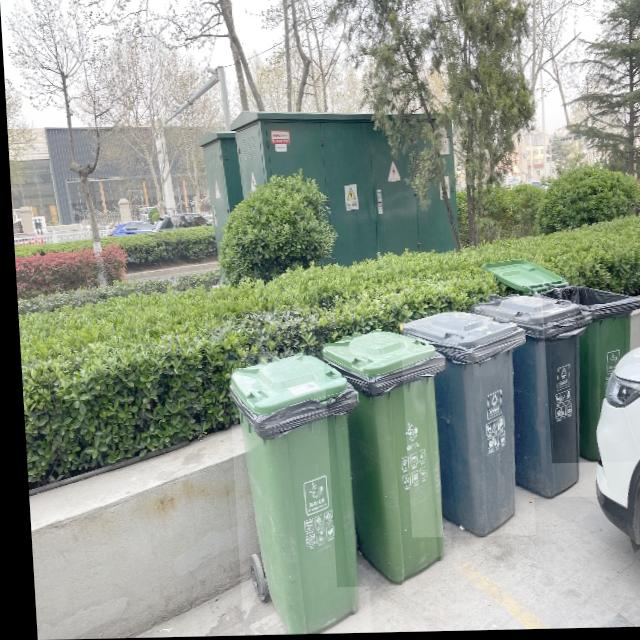garbage_bin: (223, 351, 364, 635), (318, 329, 449, 589), (395, 310, 530, 539), (469, 294, 594, 501), (538, 286, 640, 466)
